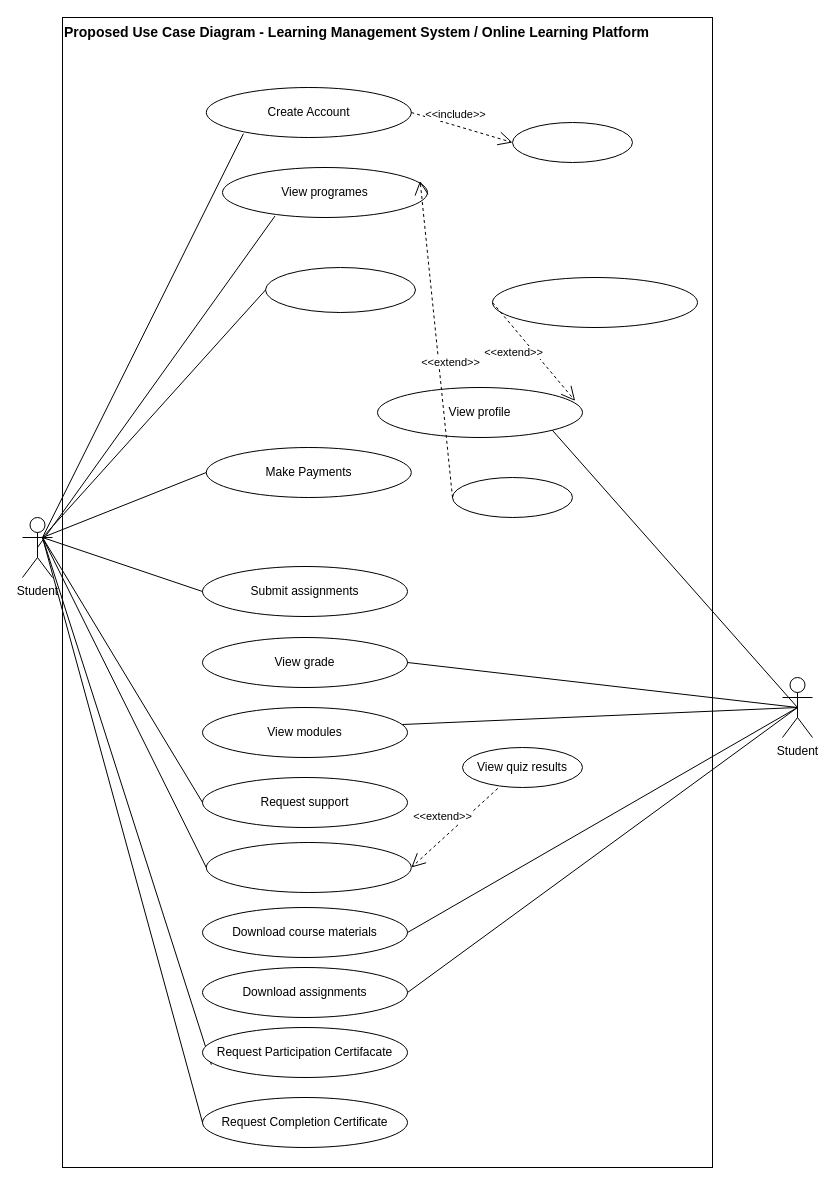
Some shapes in this 835 by 1185 pixel diagram are drawn without their labels. Here are the shapes that lost their labels. From the top down, the centre of each, then its label:
At (572,142): "Verify With OTP".
At (340,289): "Select Program".
At (595,302): "Edit profile".
At (512,497): "View lecturer name".
At (308,867): "Take Quiz".
